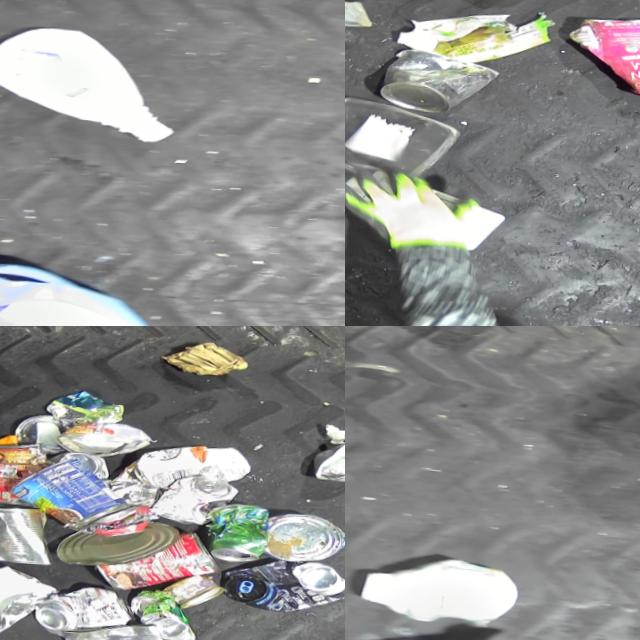can: (6, 454, 135, 535), (94, 523, 222, 595), (381, 45, 503, 115), (223, 551, 345, 613), (57, 514, 180, 570), (34, 581, 135, 639), (151, 471, 241, 528), (266, 507, 345, 563), (204, 501, 272, 564), (55, 419, 154, 459), (128, 588, 200, 640), (0, 503, 58, 565), (0, 439, 46, 508), (59, 615, 173, 640), (163, 570, 226, 610), (13, 412, 68, 453), (49, 450, 112, 478), (314, 432, 345, 483)
milk_jug: (351, 548, 523, 630)
non_white_jug: (0, 242, 162, 326)
